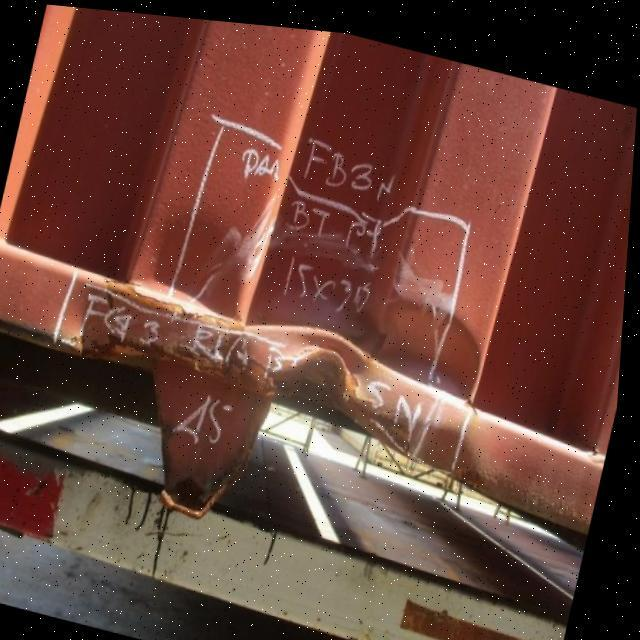dent: (122, 195, 510, 407)
